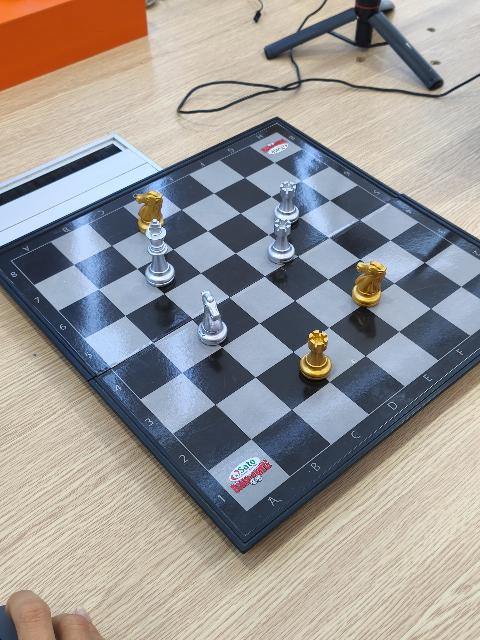black_knight: (351, 260, 388, 309), (134, 189, 165, 221)
black_rook: (298, 331, 333, 384)
white_knight: (197, 291, 230, 347)
white_queen: (143, 221, 175, 287)
white_rook: (268, 216, 296, 263), (274, 179, 301, 217)
